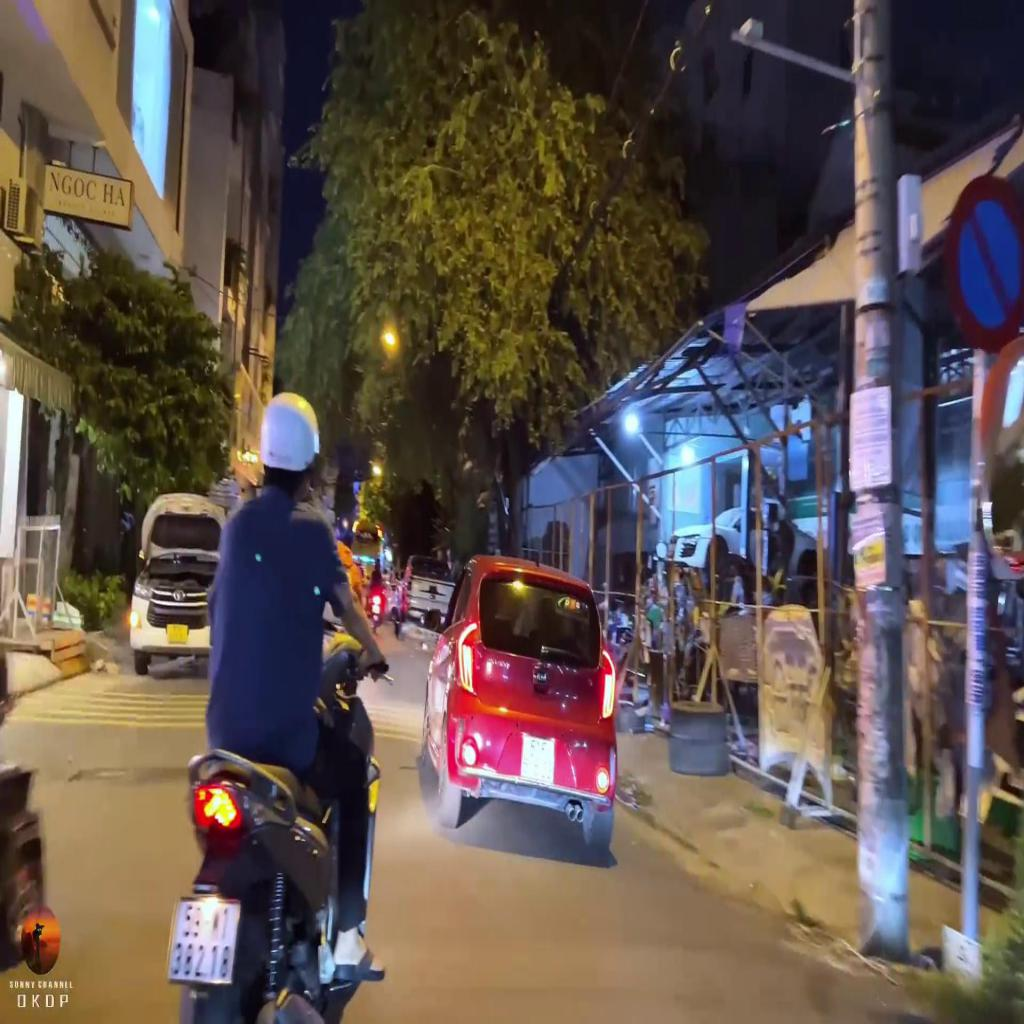cam_do_xe: (943, 176, 1023, 355)
